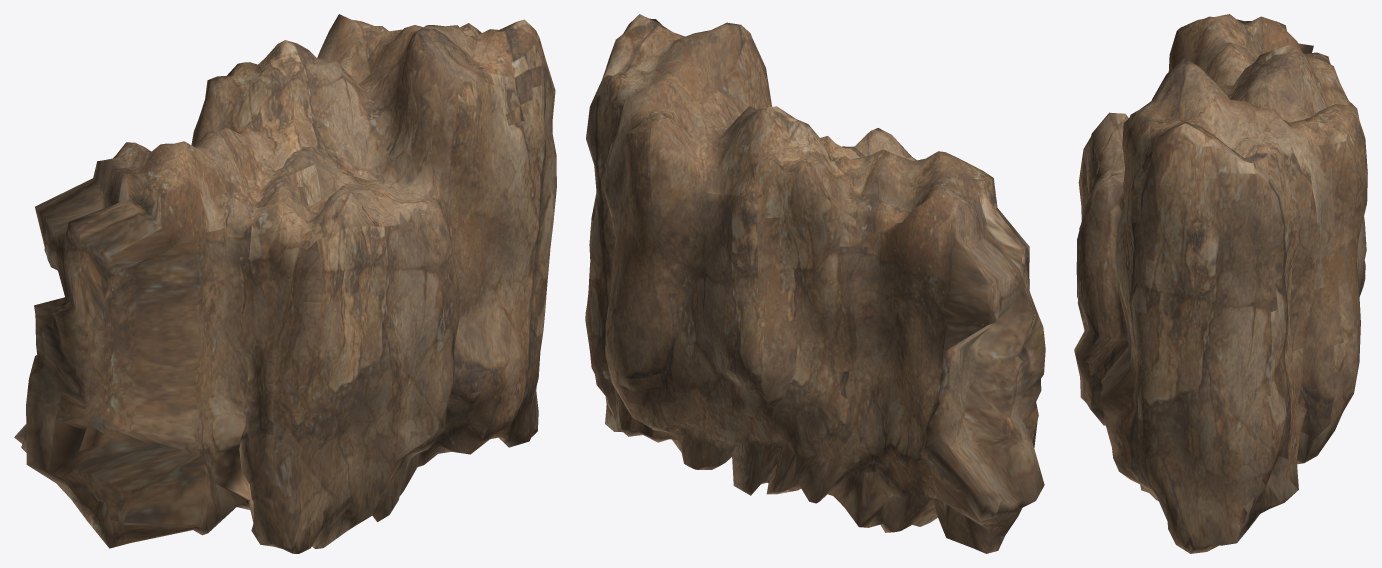
Rendered from rock3.obj.
3 renders of one model, left to right at view 1: azimuth 30°, elevation 25°; view 2: azimuth 150°, elevation 25°; view 3: azimuth 270°, elevation 25°, orthographic. The views are drawn at different scales.
Visible parts, largest first — view 1: rock3; view 2: rock3; view 3: rock3.
Part boxes in pixels (box(x1,y1,x2,y2)): rock3: box(14, 14, 556, 553); rock3: box(585, 14, 1045, 553); rock3: box(1074, 14, 1367, 553).
Bounding box in the file's own units: 43.2 × 40.59 × 22.56.
1 material, 1 textured.
